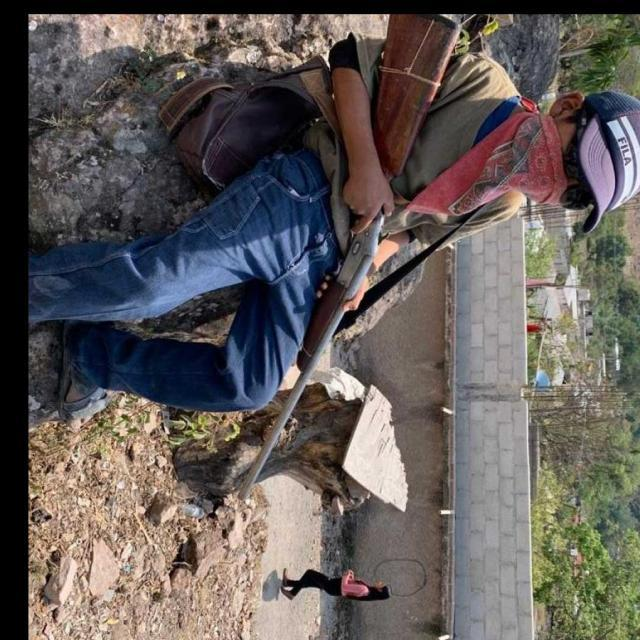weapon: (236, 17, 462, 506)
